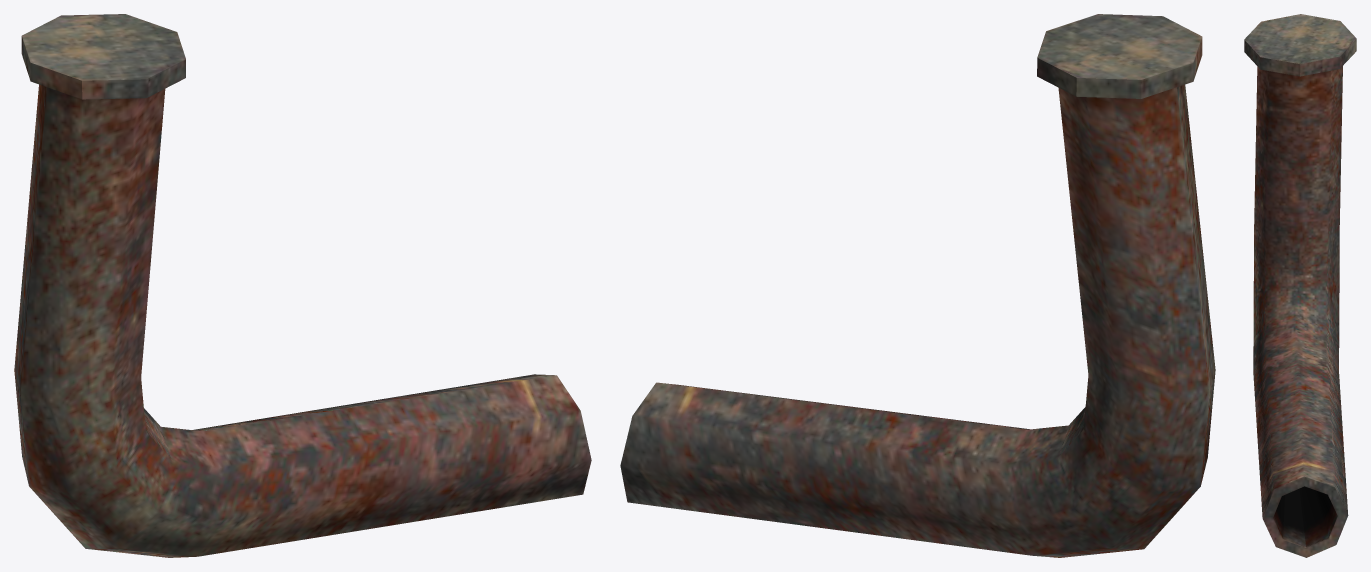
Rendered from Pipe_Broken_03.FBX.
3 views of the same model, side by side, from view 1: azimuth 30°, elevation 25°; view 2: azimuth 150°, elevation 25°; view 3: azimuth 270°, elevation 25° (orthographic). The views are drawn at different scales.
Parts seen in each view (by area): view 1: Pipe_Broken_03; view 2: Pipe_Broken_03; view 3: Pipe_Broken_03.
Part boxes in pixels (<box>): Pipe_Broken_03: <box>14,14,591,557</box>; Pipe_Broken_03: <box>620,14,1215,557</box>; Pipe_Broken_03: <box>1244,14,1356,557</box>.
Bounding box in the file's own units: 388 × 383 × 105.
